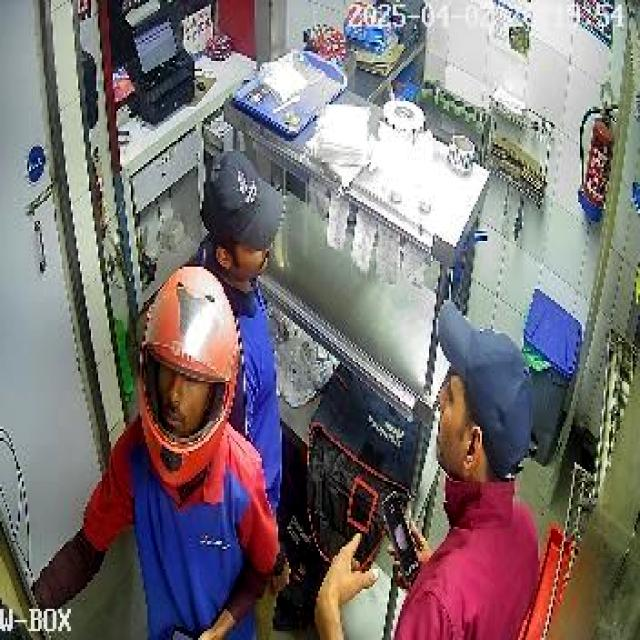helmet: (135, 263, 239, 486)
no_helmet: (435, 301, 534, 481), (200, 152, 286, 290)
